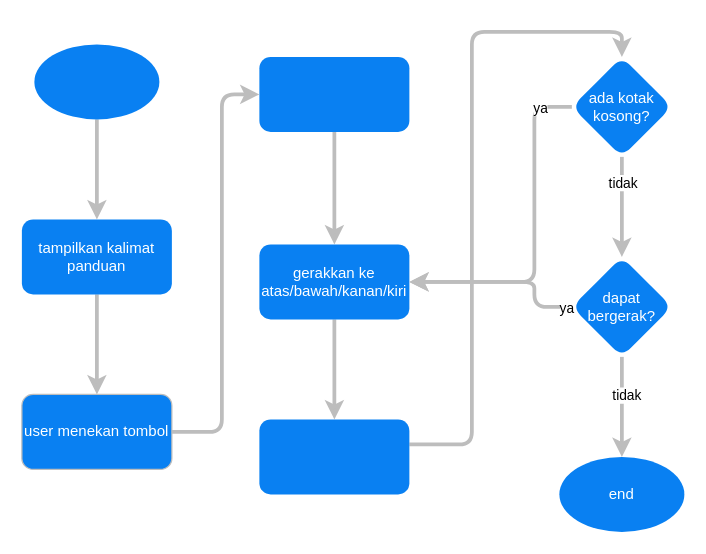
The diagram is 706 pixels wide and 554 high, and some of its shapes have lost their labels. The shapes that lost their labels are listed below. From the top down, each one's centre as x and y in pixels, then its label:
point (96, 81): start
point (334, 93): tampilkan 2 angka di papan
point (334, 456): tampilkan angka baru di papan
